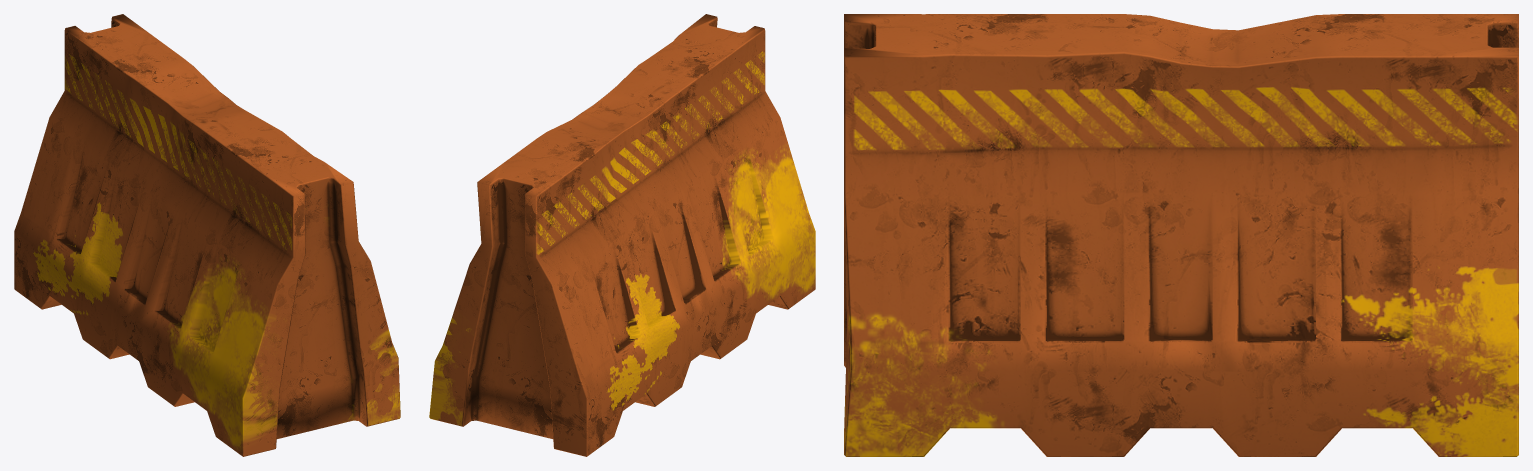
File: roadblock1.glb
3 renders of one model, left to right at view 1: azimuth 30°, elevation 25°; view 2: azimuth 150°, elevation 25°; view 3: azimuth 270°, elevation 25°, orthographic. The views are drawn at different scales.
Parts seen in each view (by area): view 1: roadblock_low; view 2: roadblock_low; view 3: roadblock_low.
Part boxes in pixels (x1,y1,x2,y2): roadblock_low: [14, 14, 400, 456]; roadblock_low: [429, 14, 815, 456]; roadblock_low: [844, 14, 1518, 456].
Bounding box in the file's own units: 0.4 × 0.6 × 1.
1 material, 1 textured.
